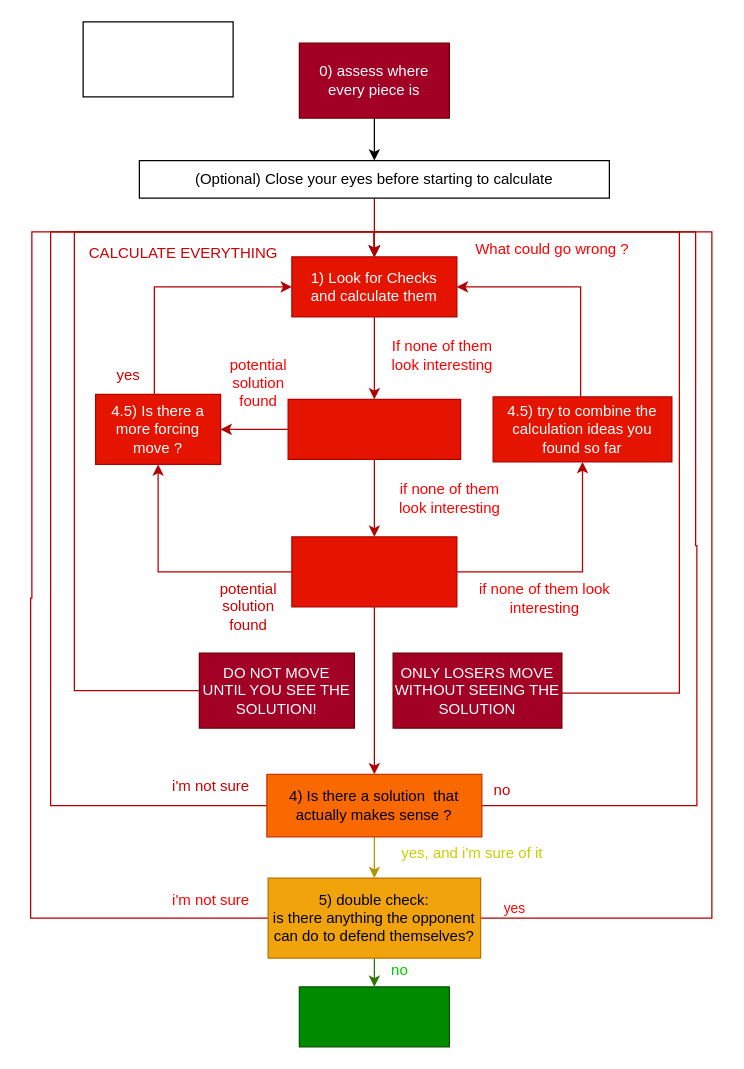
The diagram is 744 pixels wide and 1069 high, and some of its shapes have lost their labels. Here are the shapes that lost their labels. From the top down, the box of each, then its label:
(82, 21, 233, 97): Methodology to chess puzzles
(287, 398, 461, 459): 2) Look for Captures and calculate them
(291, 536, 457, 607): 3) Look for Attacks and calculate them
(298, 986, 449, 1047): ONLY THEN make a move!
